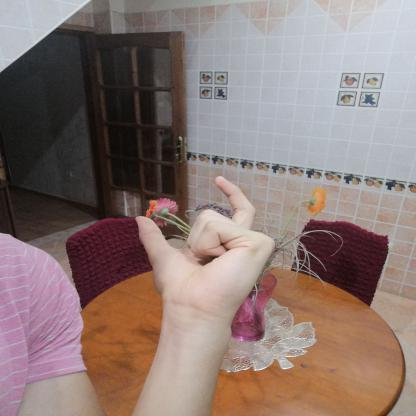NOON: (119, 167, 284, 332)
